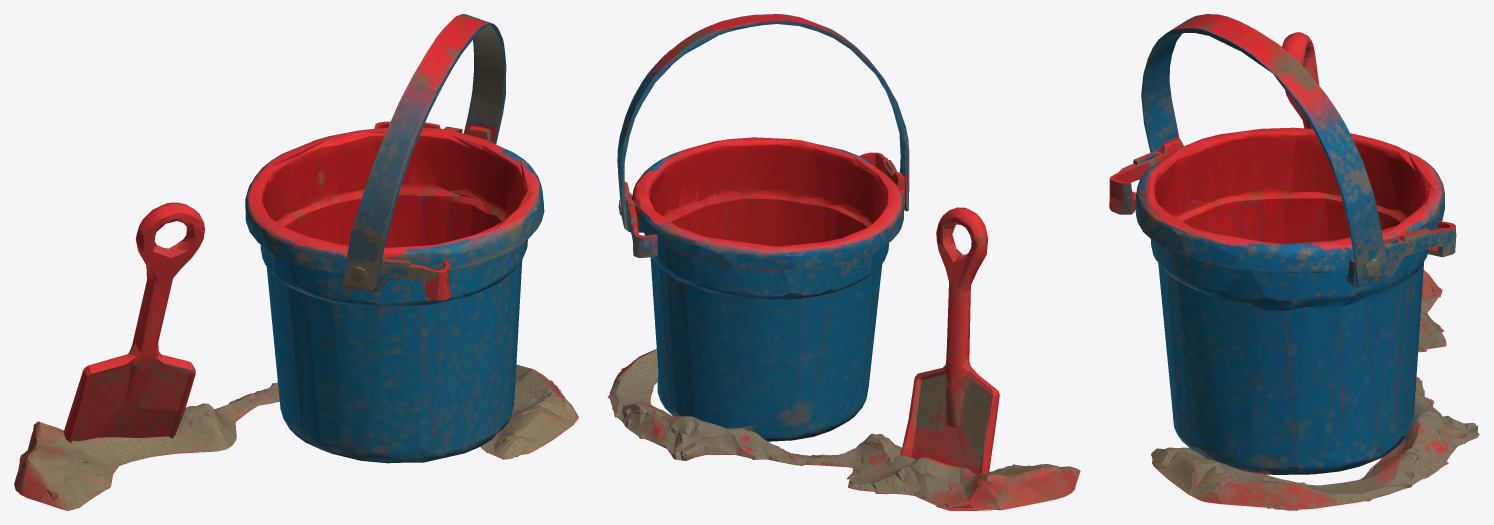
File: secchiello.glb
The picture shows the model from 3 angles, left to right: view 1: azimuth 30°, elevation 25°; view 2: azimuth 150°, elevation 25°; view 3: azimuth 270°, elevation 25°; orthographic projection. The views are drawn at different scales.
Parts seen in each view (by area): view 1: Mesh_0; view 2: Mesh_0; view 3: Mesh_0.
Boxes of the visible parts, box(x1,y1,x2,y2) form: Mesh_0: box(14, 14, 578, 510); Mesh_0: box(607, 14, 1080, 510); Mesh_0: box(1109, 14, 1479, 510).
Size of the model in its own units: 0.35 by 0.2635 by 0.2085.
1 material, 1 textured.
